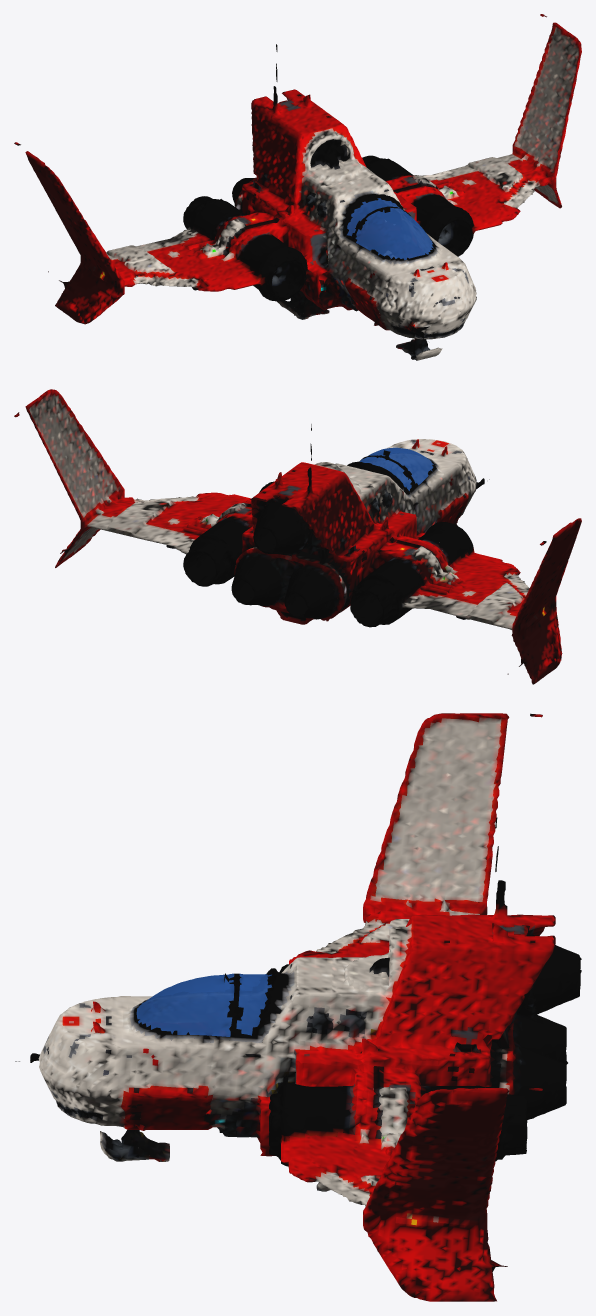
The model's file is guangzhuzi-transformed.glb.
The picture shows the model from 3 angles, top to bottom: view 1: azimuth 30°, elevation 25°; view 2: azimuth 150°, elevation 25°; view 3: azimuth 270°, elevation 25°; orthographic projection. The views are drawn at different scales.
Visible parts, largest first — view 1: Base hidra_metal alumi_0; view 2: Base hidra_metal alumi_0; view 3: Base hidra_metal alumi_0.
Boxes of the visible parts, x1=… form: Base hidra_metal alumi_0: x1=14, y1=14, x2=581, y2=360; Base hidra_metal alumi_0: x1=14, y1=389, x2=581, y2=684; Base hidra_metal alumi_0: x1=15, y1=713, x2=581, y2=1301.
Size of the model in its own units: 16.6 by 6.66 by 10.57.
Materials: 10 (10 with a texture image).
